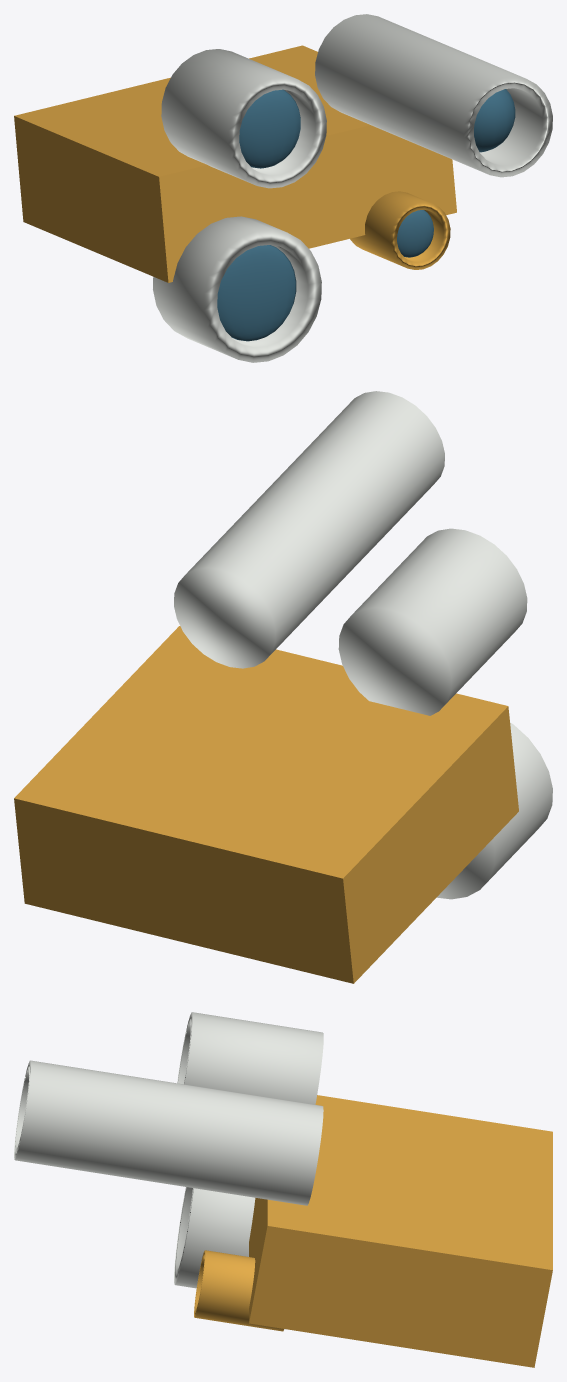
Rendered from voyager_scan_platform.boom.azimuth.glb.
The picture shows the model from 3 angles, top to bottom: view 1: azimuth 30°, elevation 25°; view 2: azimuth 150°, elevation 25°; view 3: azimuth 270°, elevation 25°; orthographic projection. The views are drawn at different scales.
Parts seen in each view (by area): view 1: voyager_scan_platform.boom.azimuth.elevation.mesh_Gold_therm, voyager_scan_platform.boom.azimuth.elevation.narrow_angle.me, voyager_scan_platform.boom.azimuth.elevation.wide_angle.mesh, voyager_scan_platform.boom.azimuth.elevation.iris.mesh_Pale_, voyager_scan_platform.boom.azimuth.elevation.iris.lens.mesh_, voyager_scan_platform.boom.azimuth.elevation.uvs.mesh_Gold_t, voyager_scan_platform.boom.azimuth.elevation.wide_angle.lens, voyager_scan_platform.boom.azimuth.elevation.narrow_angle.le, voyager_scan_platform.boom.azimuth.elevation.uvs.lens.mesh_C; view 2: voyager_scan_platform.boom.azimuth.elevation.mesh_Gold_therm, voyager_scan_platform.boom.azimuth.elevation.narrow_angle.me, voyager_scan_platform.boom.azimuth.elevation.wide_angle.mesh, voyager_scan_platform.boom.azimuth.elevation.iris.mesh_Pale_; view 3: voyager_scan_platform.boom.azimuth.elevation.mesh_Gold_therm, voyager_scan_platform.boom.azimuth.elevation.narrow_angle.me, voyager_scan_platform.boom.azimuth.elevation.wide_angle.mesh, voyager_scan_platform.boom.azimuth.elevation.iris.mesh_Pale_, voyager_scan_platform.boom.azimuth.elevation.uvs.mesh_Gold_t.
Boxes of the visible parts, left/top/right/bottom form: voyager_scan_platform.boom.azimuth.elevation.mesh_Gold_therm: left=14, top=45, right=456, bottom=282; voyager_scan_platform.boom.azimuth.elevation.narrow_angle.me: left=315, top=14, right=552, bottom=177; voyager_scan_platform.boom.azimuth.elevation.wide_angle.mesh: left=161, top=49, right=326, bottom=188; voyager_scan_platform.boom.azimuth.elevation.iris.mesh_Pale_: left=153, top=216, right=321, bottom=362; voyager_scan_platform.boom.azimuth.elevation.iris.lens.mesh_: left=217, top=245, right=296, bottom=341; voyager_scan_platform.boom.azimuth.elevation.uvs.mesh_Gold_t: left=350, top=191, right=450, bottom=269; voyager_scan_platform.boom.azimuth.elevation.wide_angle.lens: left=239, top=89, right=300, bottom=168; voyager_scan_platform.boom.azimuth.elevation.narrow_angle.le: left=474, top=89, right=515, bottom=152; voyager_scan_platform.boom.azimuth.elevation.uvs.lens.mesh_C: left=397, top=210, right=433, bottom=257; voyager_scan_platform.boom.azimuth.elevation.mesh_Gold_therm: left=14, top=626, right=518, bottom=983; voyager_scan_platform.boom.azimuth.elevation.narrow_angle.me: left=174, top=391, right=444, bottom=668; voyager_scan_platform.boom.azimuth.elevation.wide_angle.mesh: left=338, top=528, right=527, bottom=715; voyager_scan_platform.boom.azimuth.elevation.iris.mesh_Pale_: left=437, top=722, right=552, bottom=899; voyager_scan_platform.boom.azimuth.elevation.mesh_Gold_therm: left=249, top=1095, right=552, bottom=1367; voyager_scan_platform.boom.azimuth.elevation.narrow_angle.me: left=14, top=1060, right=323, bottom=1205; voyager_scan_platform.boom.azimuth.elevation.wide_angle.mesh: left=177, top=1012, right=323, bottom=1104; voyager_scan_platform.boom.azimuth.elevation.iris.mesh_Pale_: left=174, top=1187, right=255, bottom=1288; voyager_scan_platform.boom.azimuth.elevation.uvs.mesh_Gold_t: left=194, top=1250, right=284, bottom=1331.
Size of the model in its own units: 0.42 by 0.4349 by 0.6904.
